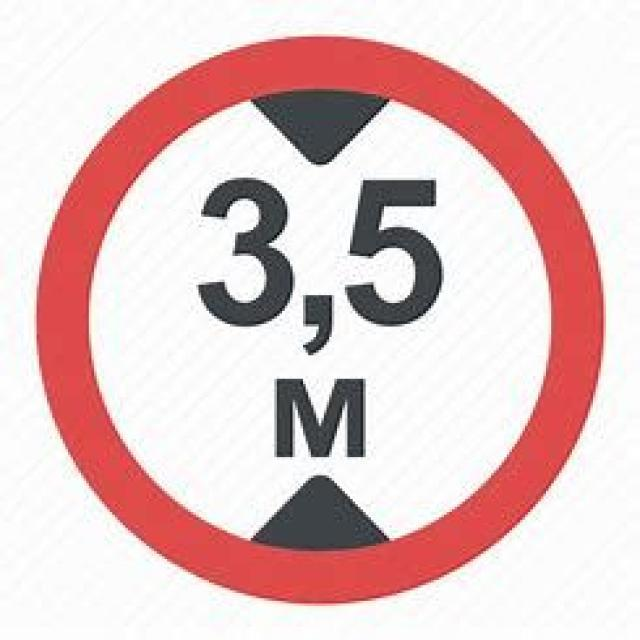height limit: (32, 34, 606, 603)
